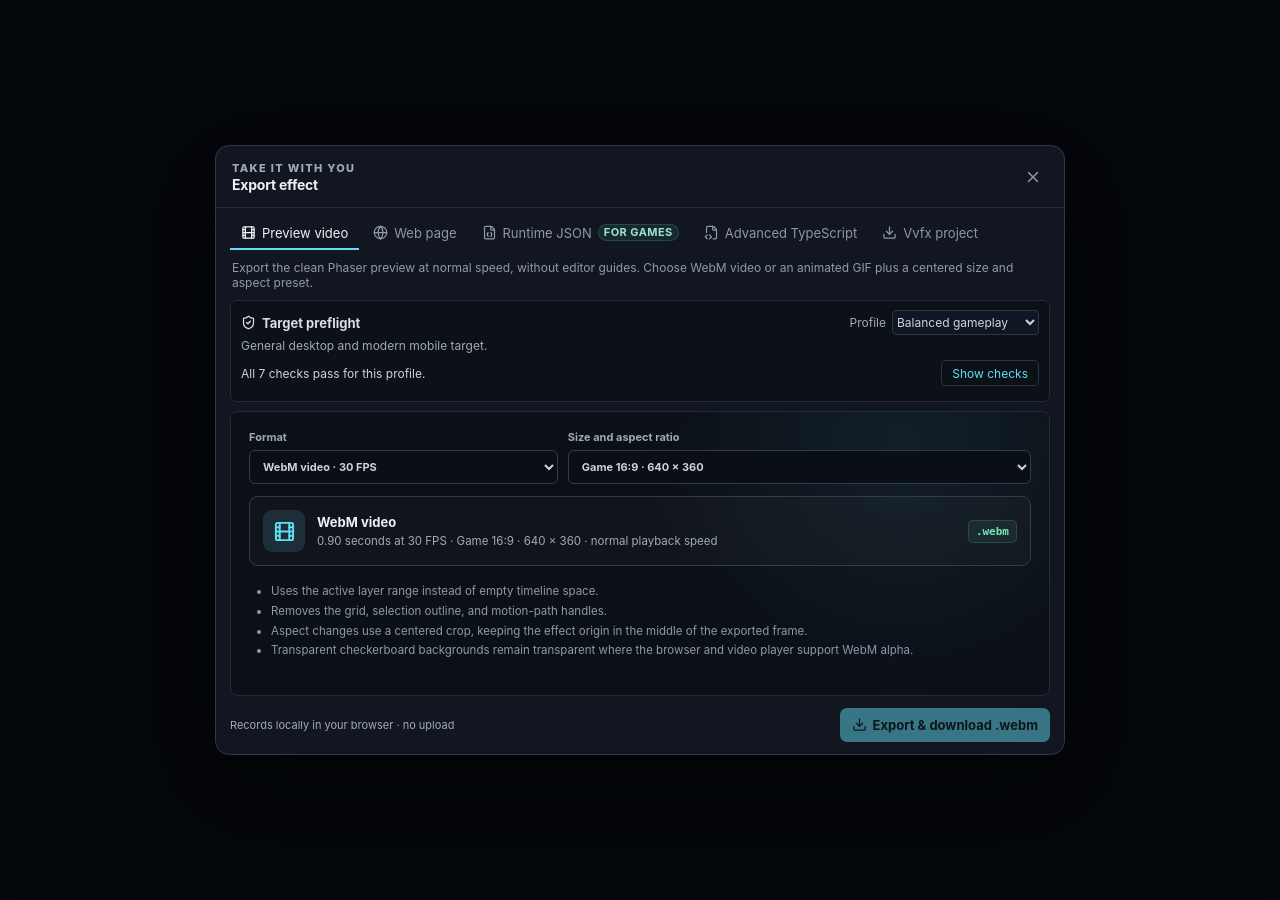
beginner-friendly controls › explains clean active-range WebM export before recording
Expected: the text "WebM video" is shown, [317,514,396,530]
Expected: the text "0.90 seconds at 30 FPS" is shown, [317,534,718,548]
Select "Animated GIF · 15 FPS" in the dropdown labelled "Format". click: (403, 467)
box: [249,450,558,484]
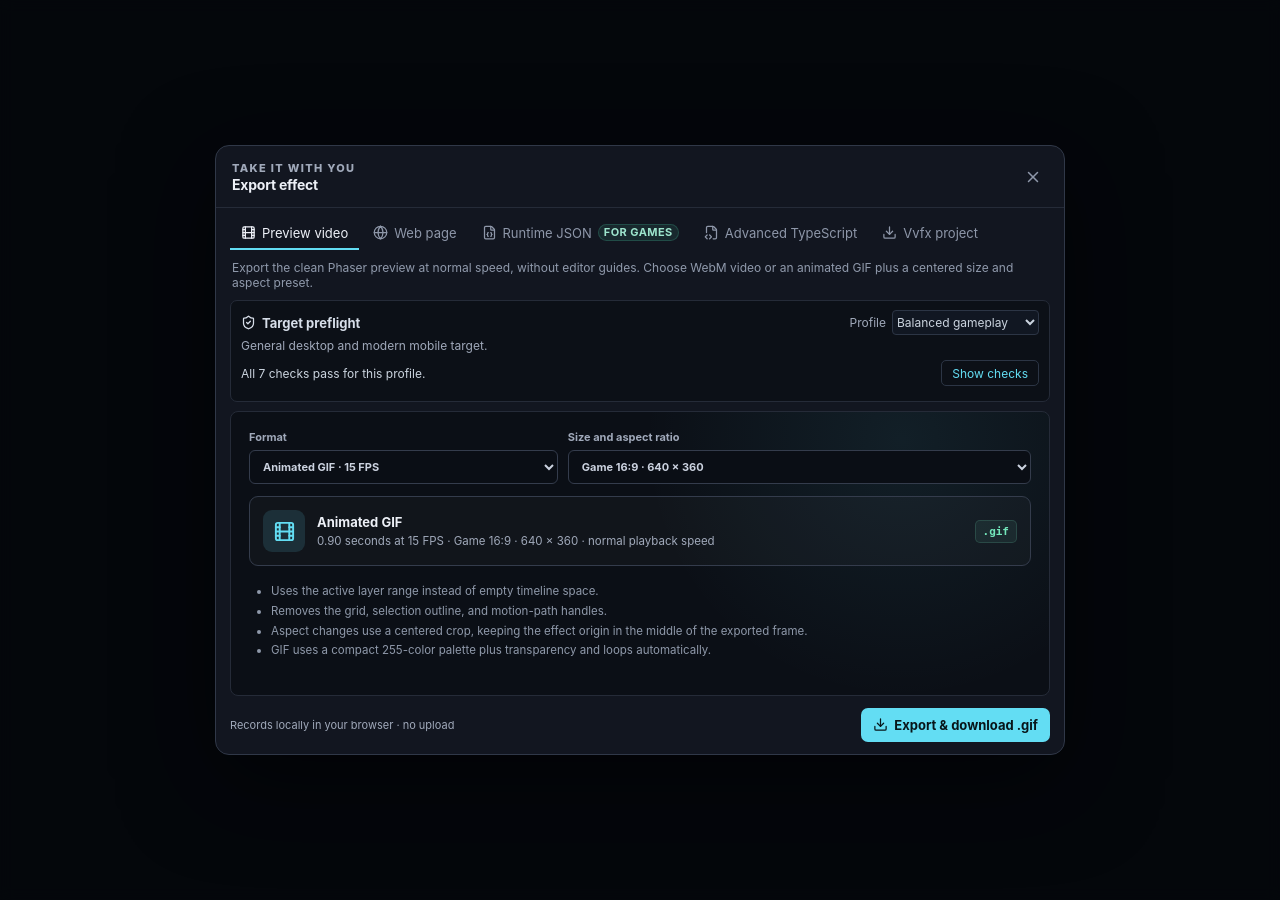
Now the button "Export & download .gif" is shown, box [861,708,1050,742]
